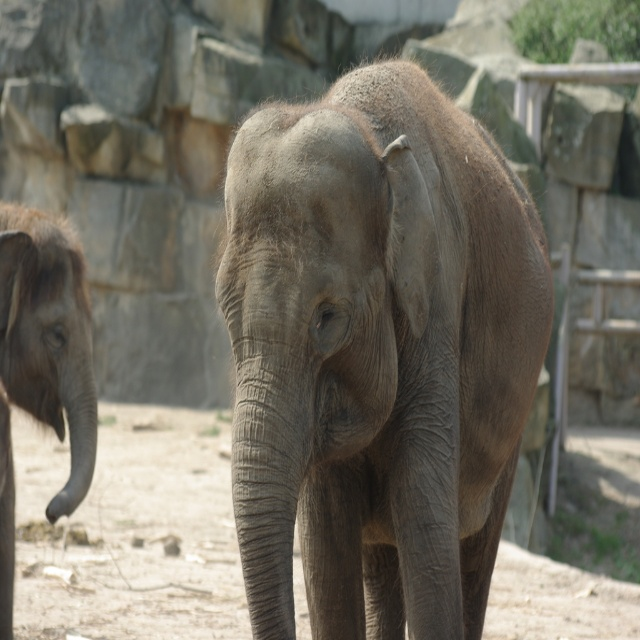Elephant: (214, 50, 549, 639), (0, 200, 97, 639)
